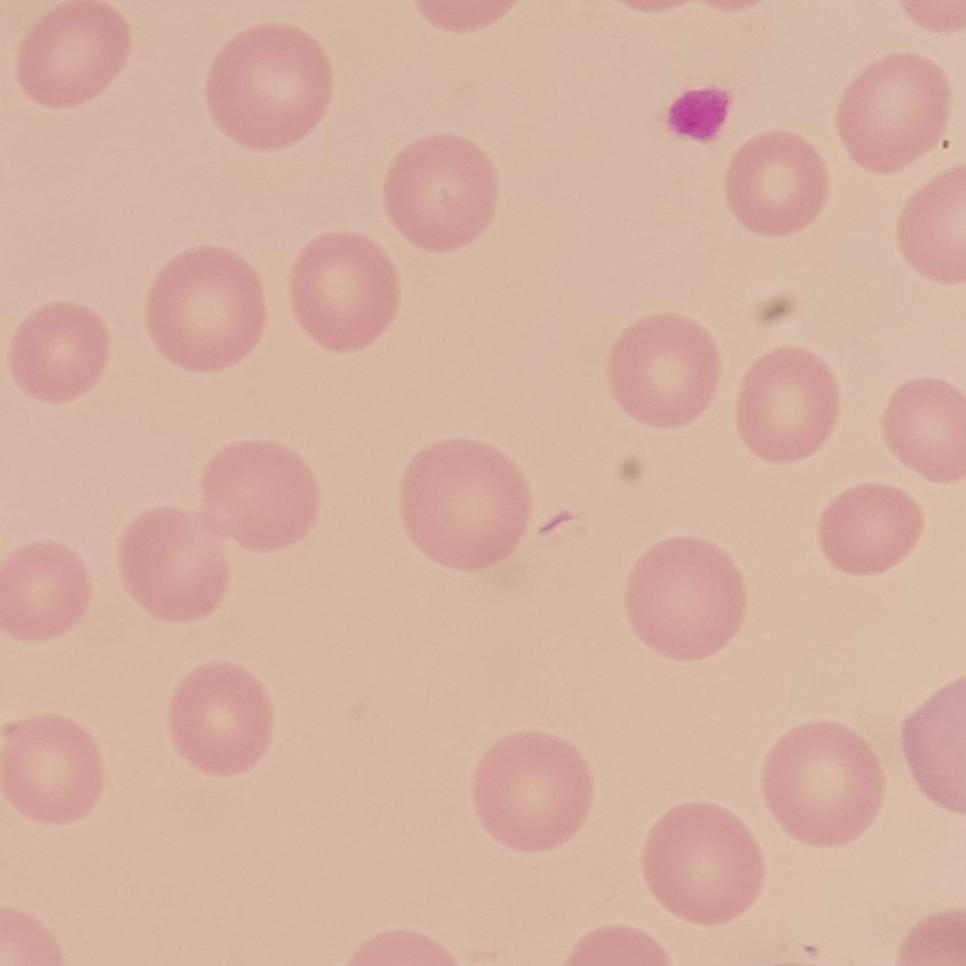Uninfected: (390, 396, 529, 534), (808, 202, 941, 333), (114, 760, 245, 884), (300, 624, 430, 747), (589, 144, 720, 265), (35, 641, 163, 763), (114, 473, 238, 594), (713, 384, 830, 498), (794, 834, 911, 947), (614, 290, 734, 398), (185, 164, 304, 272), (536, 608, 649, 719), (500, 734, 618, 840), (343, 120, 458, 227), (416, 203, 521, 320), (854, 16, 962, 127), (725, 726, 832, 827), (141, 1, 248, 102), (560, 7, 665, 107), (389, 818, 483, 920), (320, 0, 423, 90)
